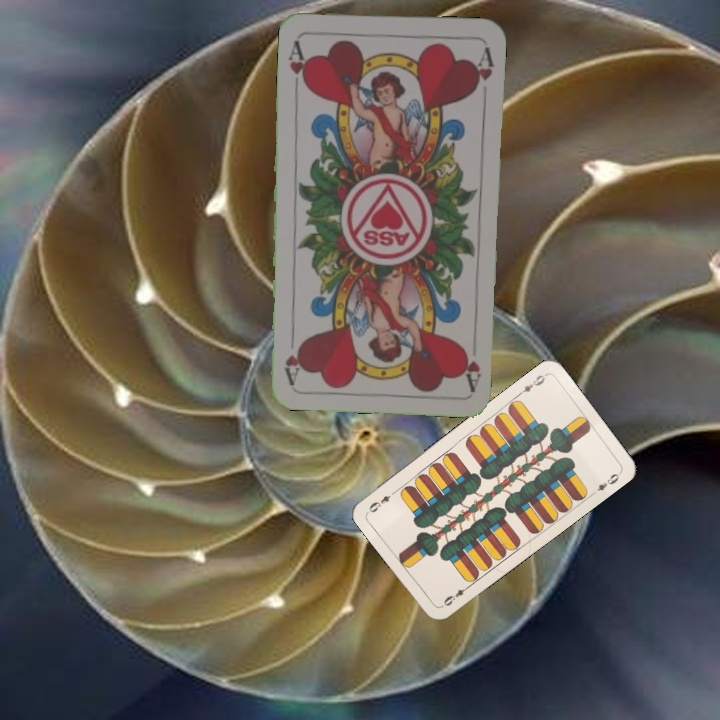E9: (514, 370, 549, 399), (437, 581, 472, 610)
HA: (284, 36, 311, 93), (456, 342, 484, 392)
